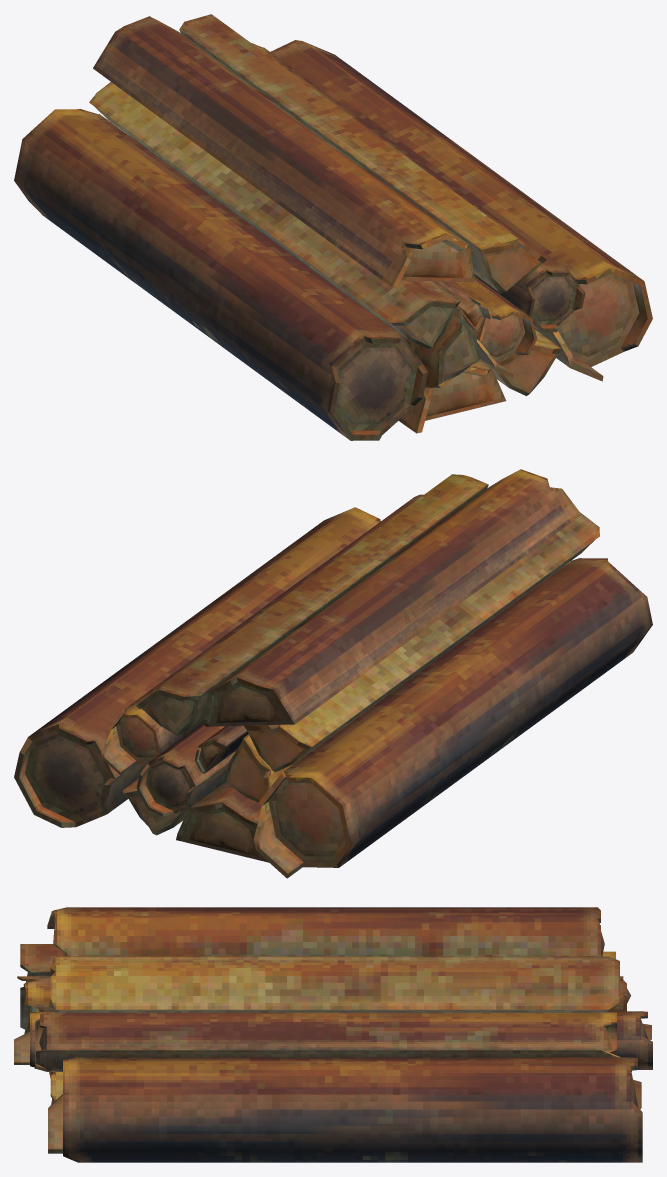
Rendered from woodstack.fbx.
The picture shows the model from 3 angles, top to bottom: view 1: azimuth 30°, elevation 25°; view 2: azimuth 150°, elevation 25°; view 3: azimuth 270°, elevation 25°; orthographic projection. The views are drawn at different scales.
Parts seen in each view (by area): view 1: woodstack01; view 2: woodstack01; view 3: woodstack01.
Part boxes in pixels (left/top/right/bottom): woodstack01: left=14, top=14, right=652, bottom=440; woodstack01: left=14, top=469, right=652, bottom=878; woodstack01: left=14, top=907, right=652, bottom=1162.
Bounding box in the file's own units: 180 × 92.45 × 321.
